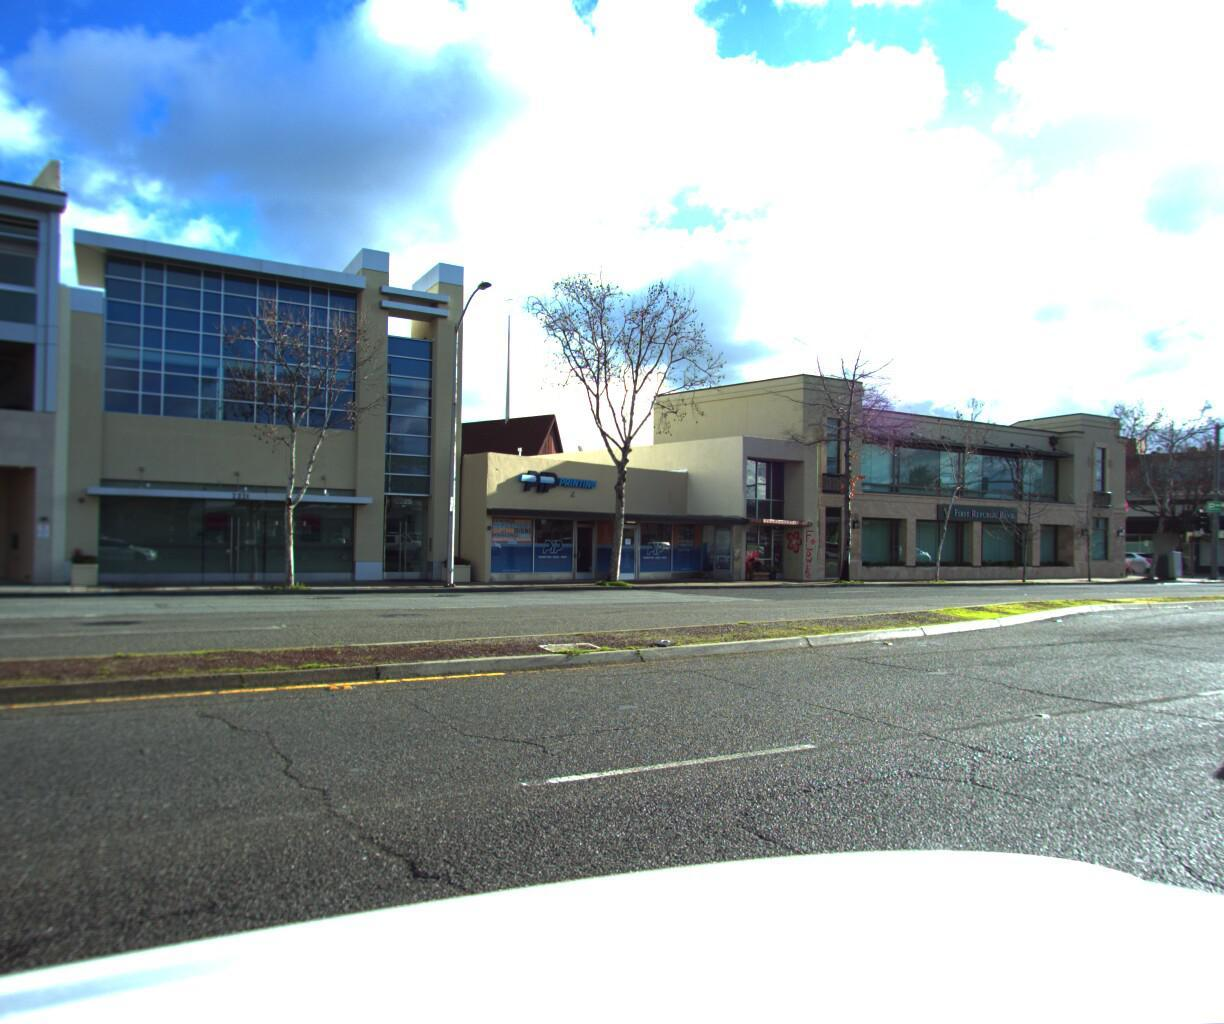car: (1081, 542, 1155, 569)
